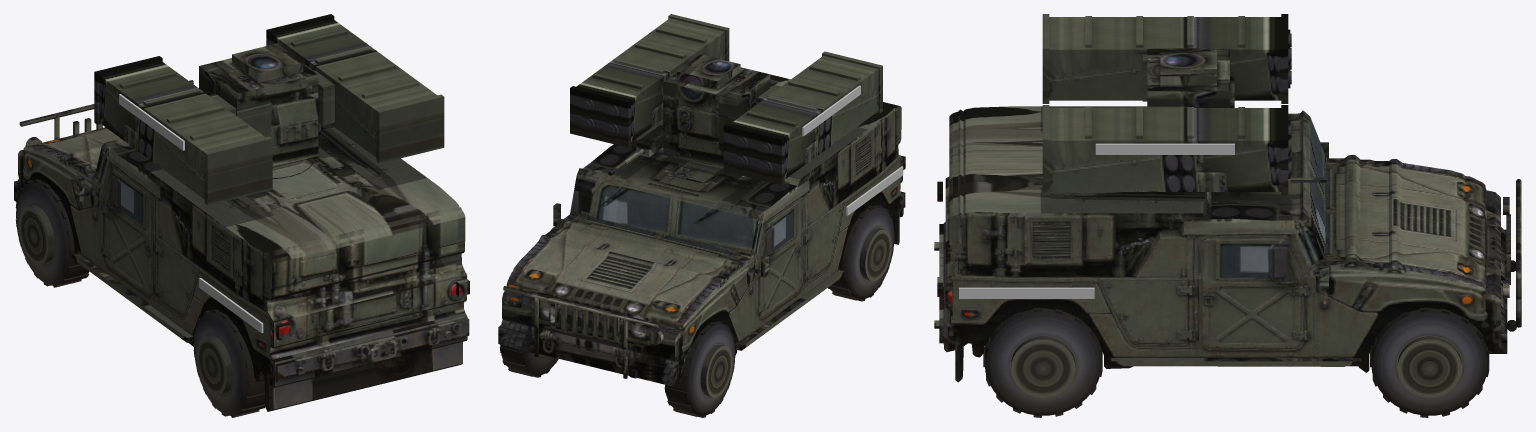
Rendered from avenger.glb.
The picture shows the model from 3 angles, left to right: view 1: azimuth 30°, elevation 25°; view 2: azimuth 150°, elevation 25°; view 3: azimuth 270°, elevation 25°; orthographic projection. The views are drawn at different scales.
Visible parts, largest first — view 1: Hull, Gun, Turret, WheelRL, WheelFL; view 2: Hull, Gun, Turret, WheelFL, WheelRL, WheelFR; view 3: Hull, Gun, WheelRR, WheelFR, Turret.
Part boxes in pixels (x1,y1,x2,y2): Hull: (14, 80, 469, 411); Gun: (94, 14, 444, 205); Turret: (199, 43, 320, 178); WheelRL: (193, 309, 265, 417); WheelFL: (15, 179, 89, 287); Hull: (498, 67, 905, 386); Gun: (570, 14, 882, 184); Turret: (608, 54, 770, 175); WheelFL: (664, 321, 735, 417); WheelRL: (828, 204, 894, 301); WheelFR: (499, 344, 558, 377); Hull: (934, 106, 1521, 382); Gun: (1042, 14, 1291, 194); WheelRR: (983, 307, 1102, 417); WheelFR: (1370, 307, 1489, 417); Turret: (1147, 48, 1326, 182).
Bounding box in the file's own units: 2.62 × 2.95 × 5.18.
Materials: 2 (1 with a texture image).
